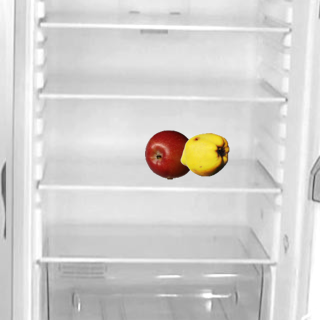Apple Braeburn: (144, 129, 194, 179)
Quince: (179, 129, 229, 179)
